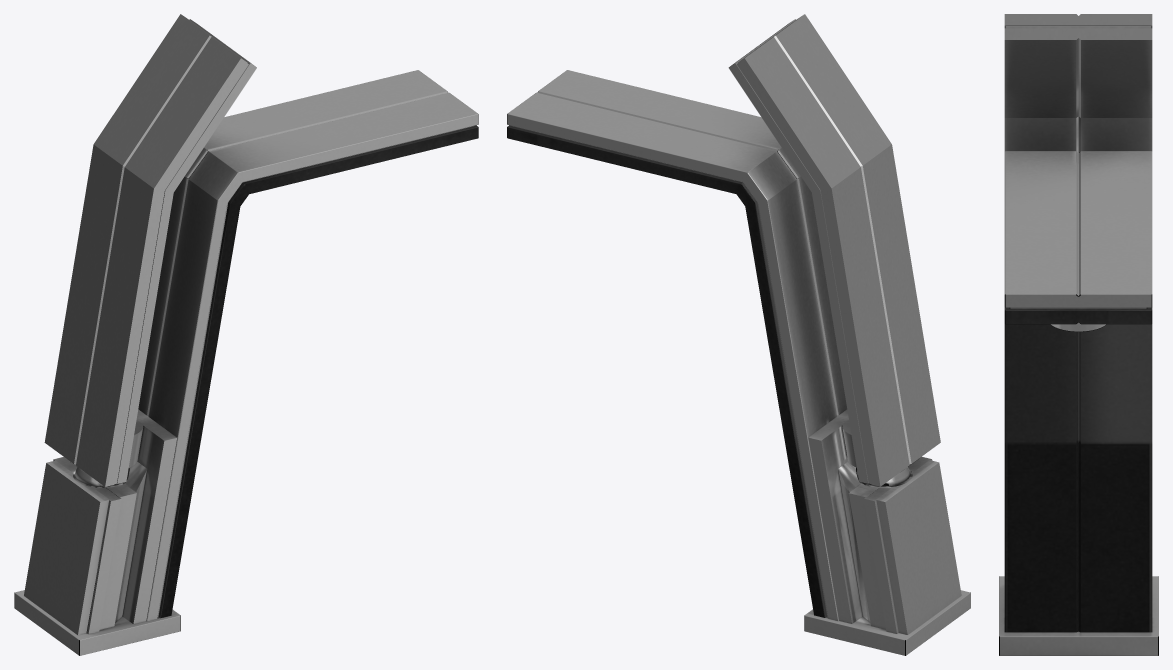
The model's file is JJII.FBX.
3 views of the same model, side by side, from view 1: azimuth 30°, elevation 25°; view 2: azimuth 150°, elevation 25°; view 3: azimuth 270°, elevation 25° (orthographic). The views are drawn at different scales.
Visible parts, largest first — view 1: JJII-Phoenix-Merged; view 2: JJII-Phoenix-Merged; view 3: JJII-Phoenix-Merged.
Part boxes in pixels (x1=…): JJII-Phoenix-Merged: x1=14, y1=14, x2=478, y2=655; JJII-Phoenix-Merged: x1=507, y1=14, x2=970, y2=655; JJII-Phoenix-Merged: x1=999, y1=14, x2=1158, y2=655.
Bounding box in the file's own units: 2.49 × 0.7046 × 3.3.
Materials: 1 (1 with a texture image).
